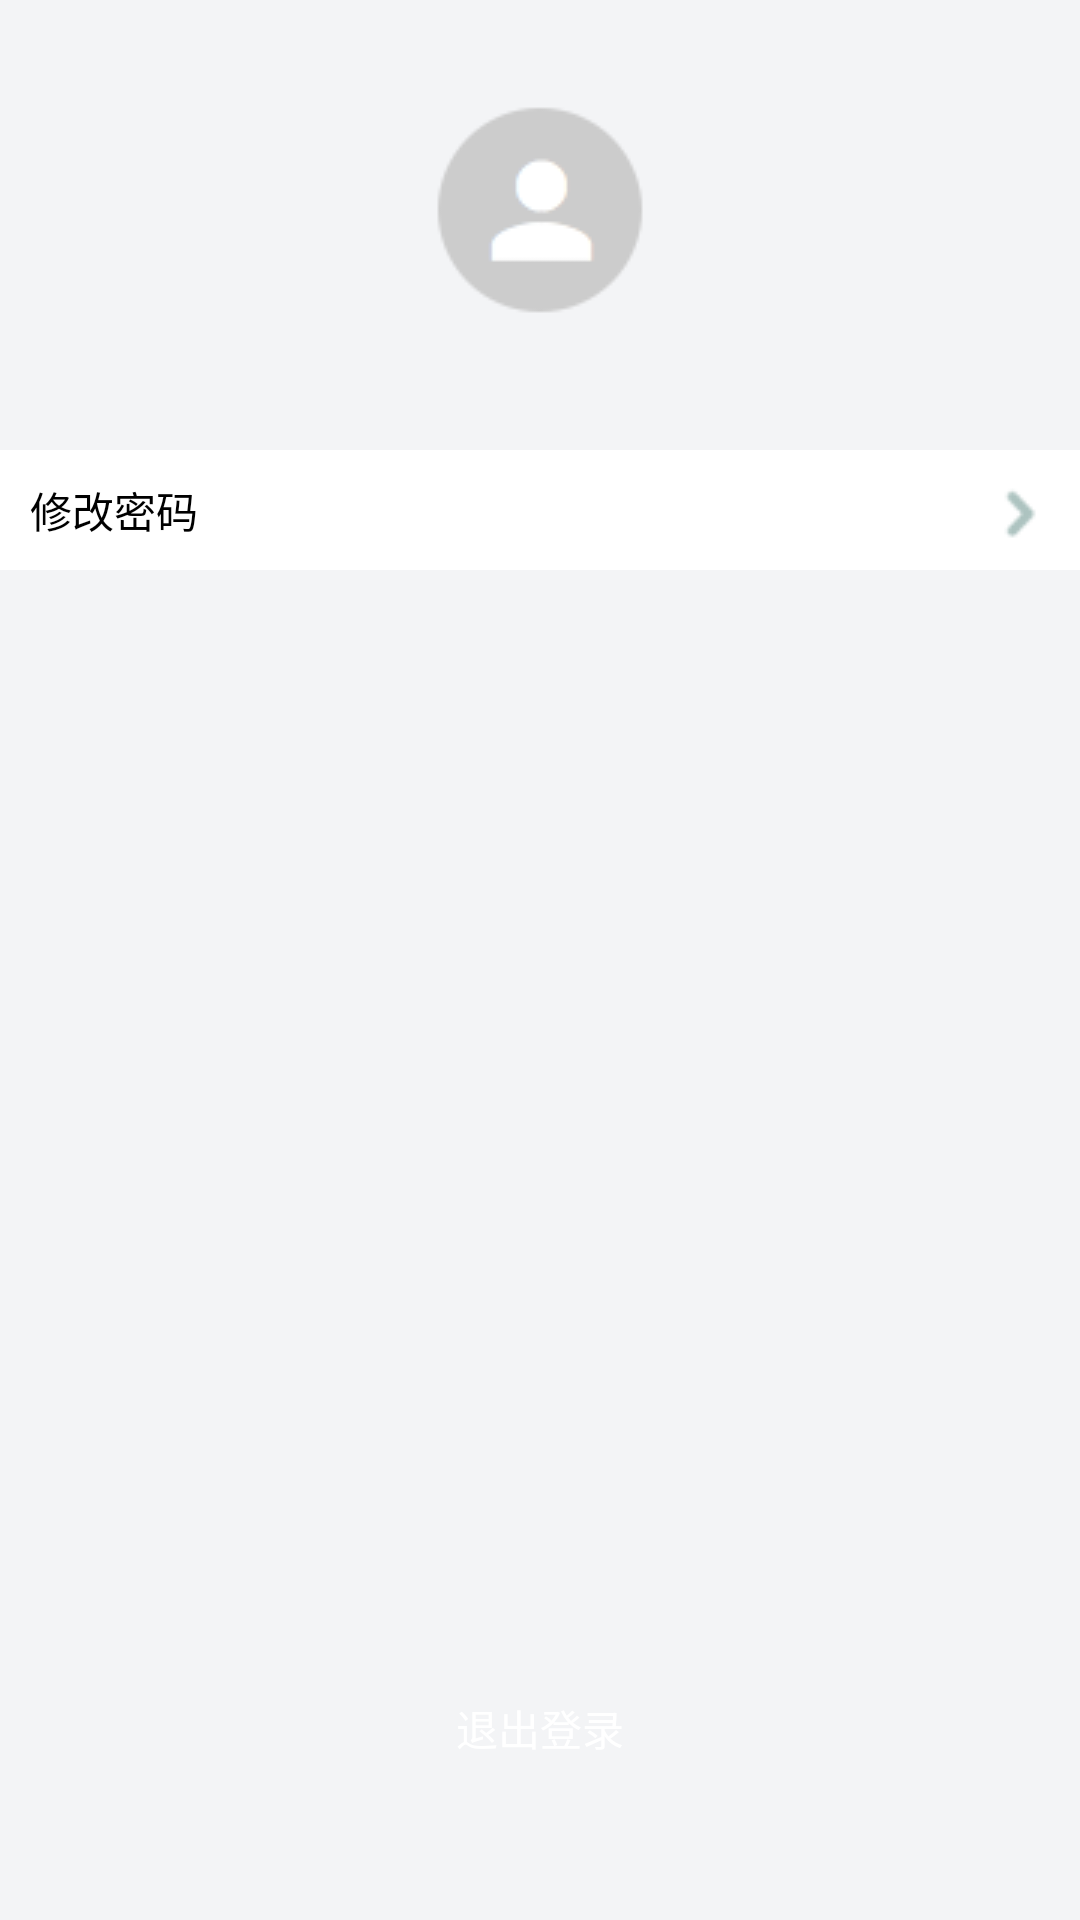

Where to tap for icons on this 1080 x 1920 app screen, as (x,y):
more: (1021,514)
profile: (540,210)
